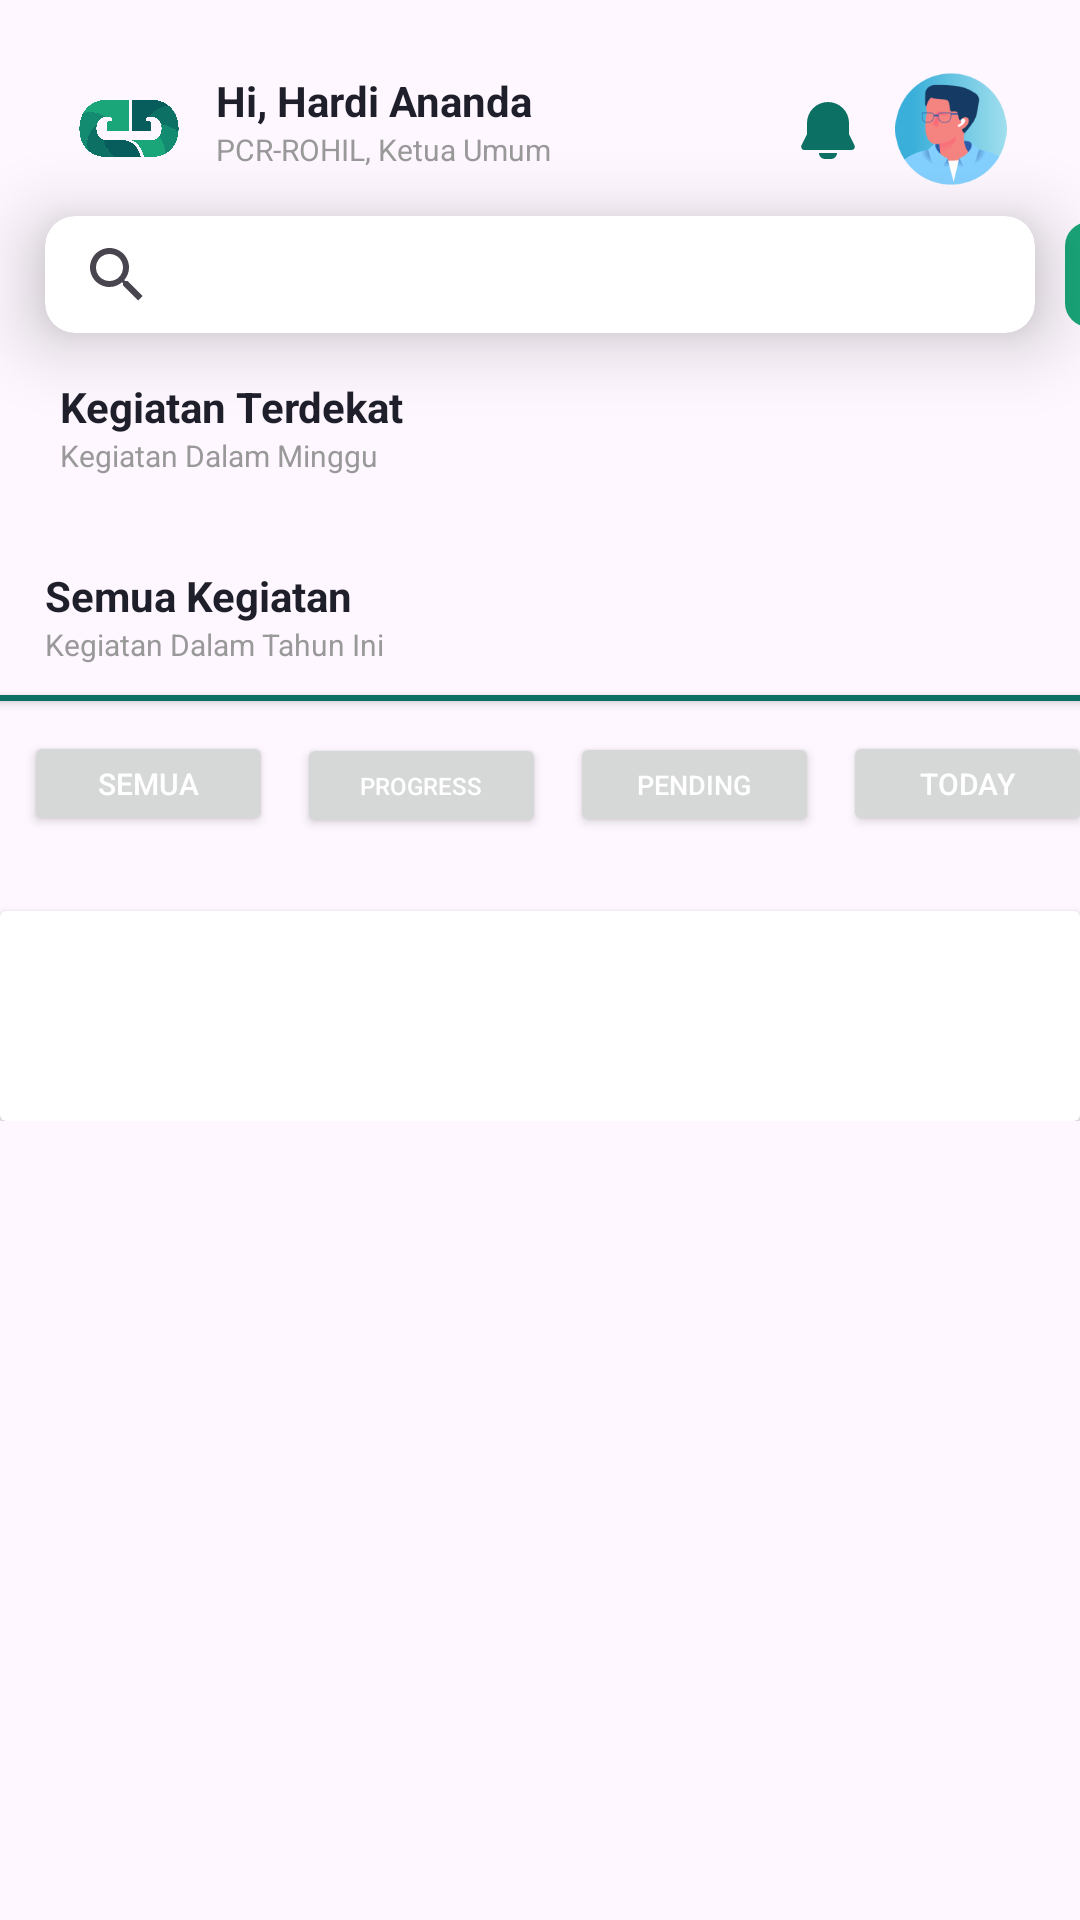

Named icons in this screenshot (1080×1920) and their bounding boxes, {"x1": x1, "y1": y1, "x2": x2, "y2": y2}:
man: {"x1": 895, "y1": 73, "x2": 1007, "y2": 185}
mingcute notification: {"x1": 801, "y1": 102, "x2": 855, "y2": 159}
